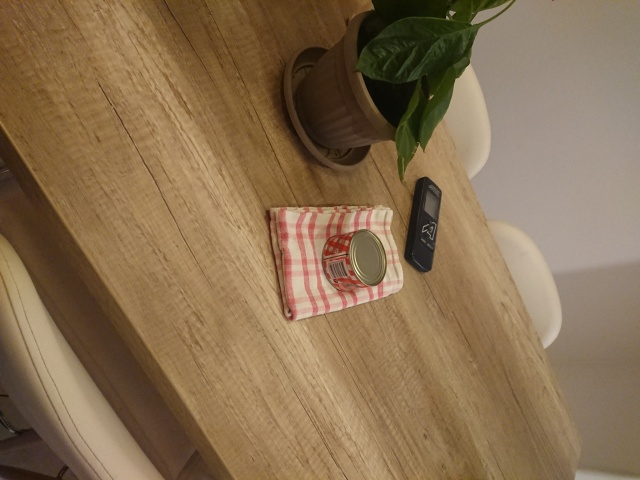Podravka Luncheon Meat 150g: (320, 227, 389, 294)
